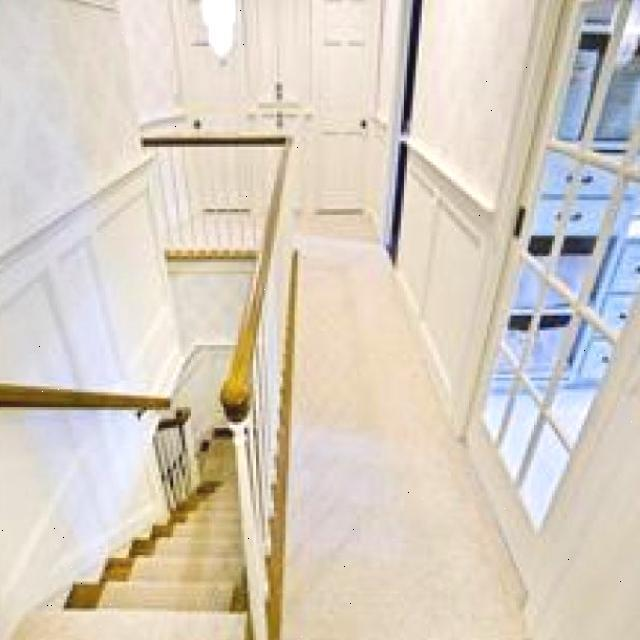stair: (55, 457, 259, 626)
